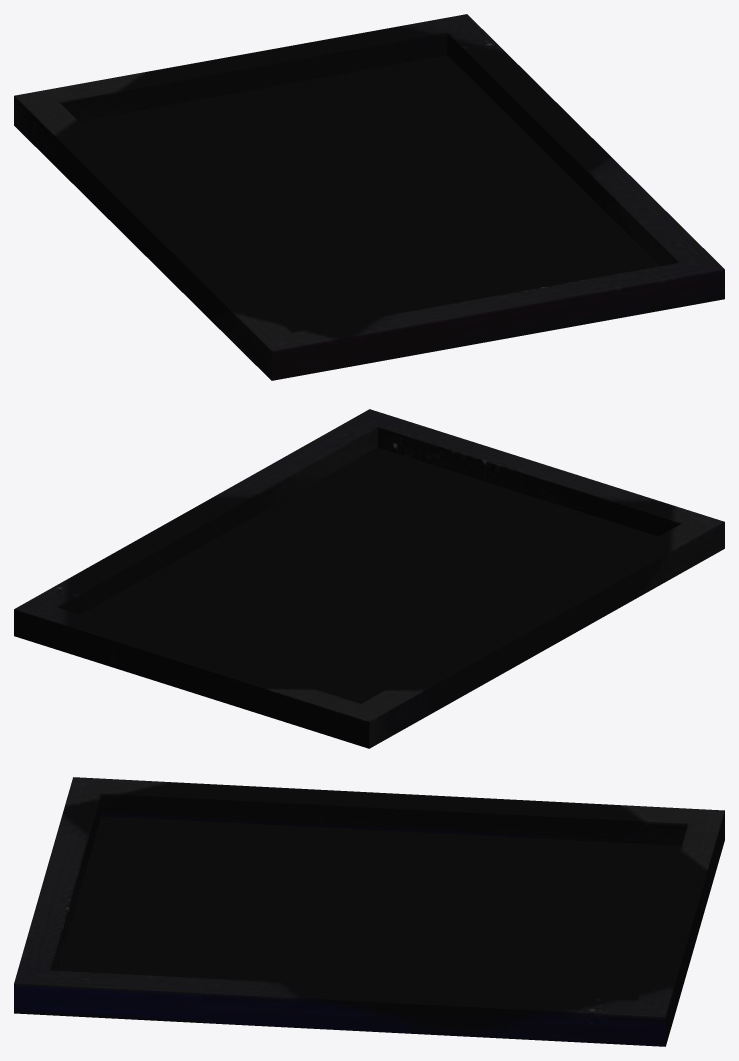
The model's file is verbal_shoota_frame.glb.
3 views of the same model, one above another, from view 1: azimuth 30°, elevation 25°; view 2: azimuth 150°, elevation 25°; view 3: azimuth 270°, elevation 25° (orthographic). The views are drawn at different scales.
Visible parts, largest first — view 1: verbal_shoota_frame; view 2: verbal_shoota_frame; view 3: verbal_shoota_frame.
Part boxes in pixels (x1,y1,x2,y2): verbal_shoota_frame: (14,14,724,380); verbal_shoota_frame: (14,409,724,748); verbal_shoota_frame: (14,777,724,1046).
Bounding box in the file's own units: 4.84 × 0.28 × 6.06.
Materials: 1 (1 with a texture image).
